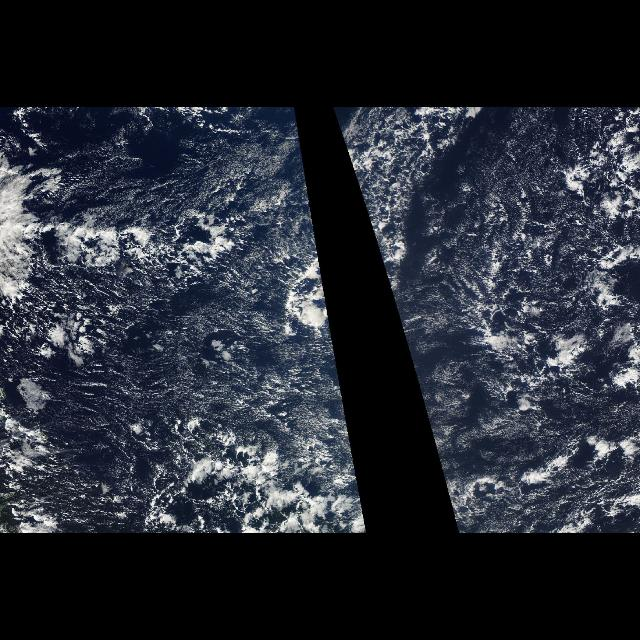Sugar: (392, 129, 630, 465), (56, 274, 354, 464), (92, 132, 298, 210)
